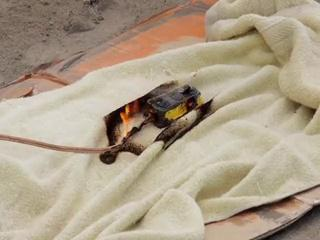Fire: (116, 93, 156, 145)
